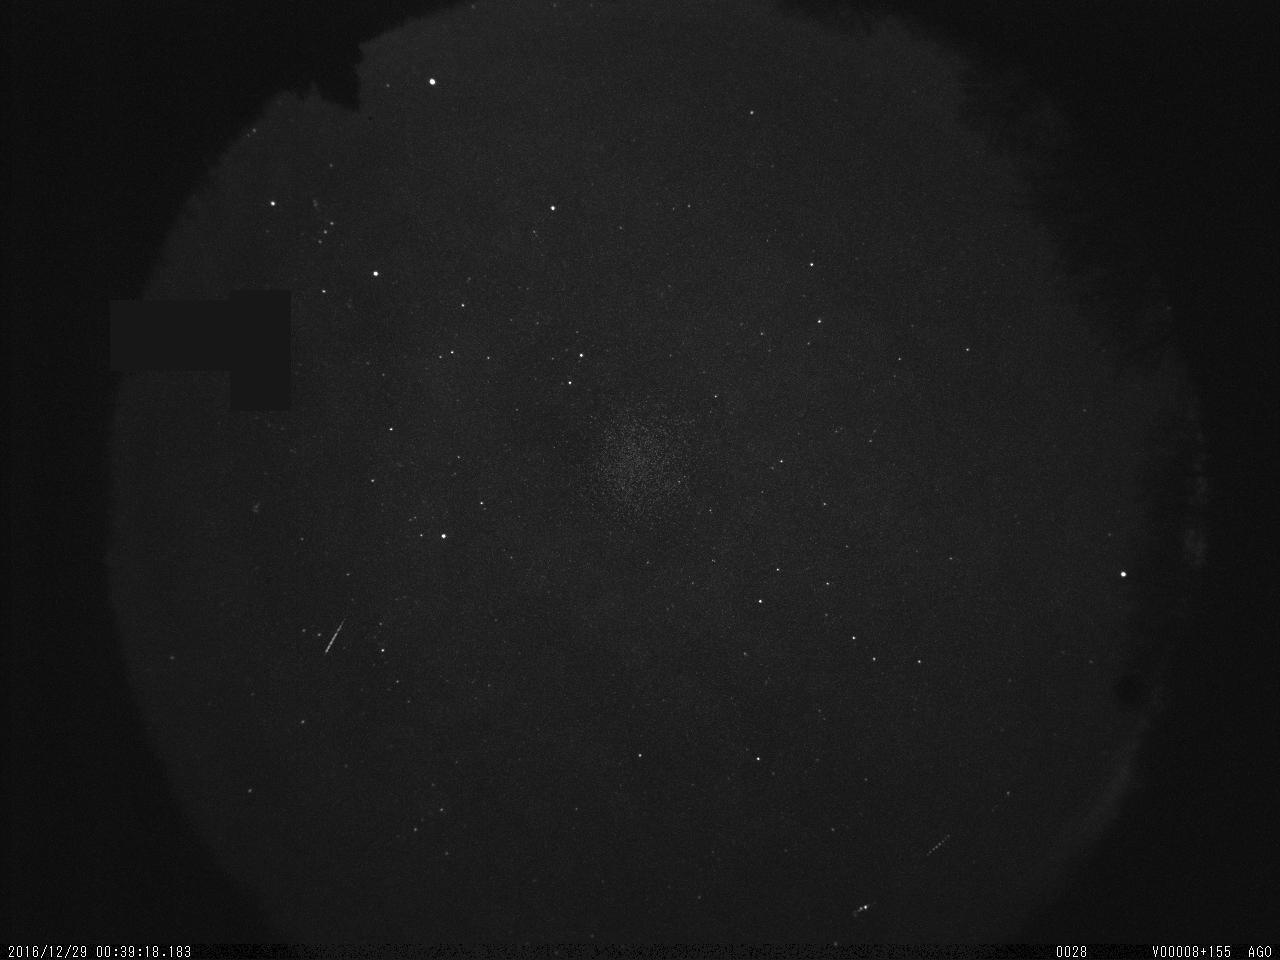Meteor: (918, 827, 959, 867), (321, 615, 350, 656)
